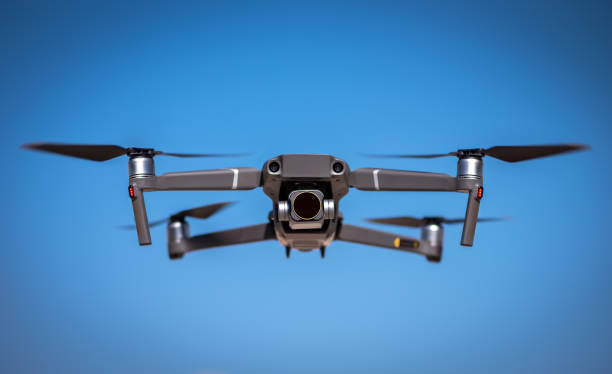Drone: (17, 129, 591, 267)
